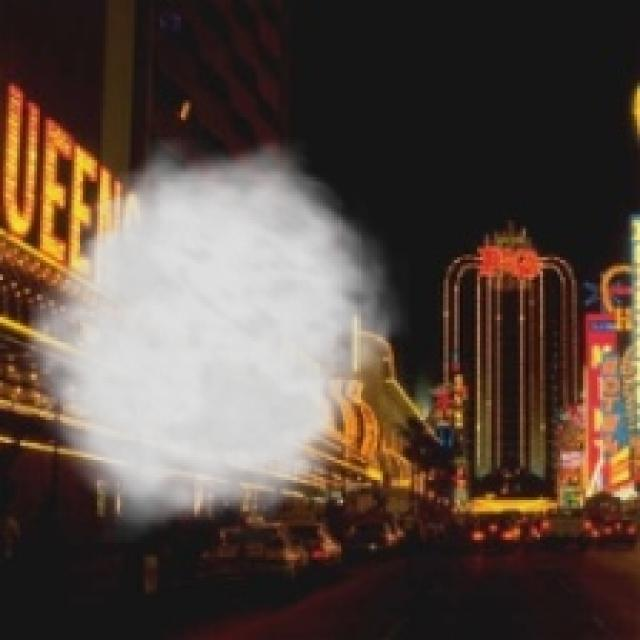Smoke: (14, 137, 412, 543)
